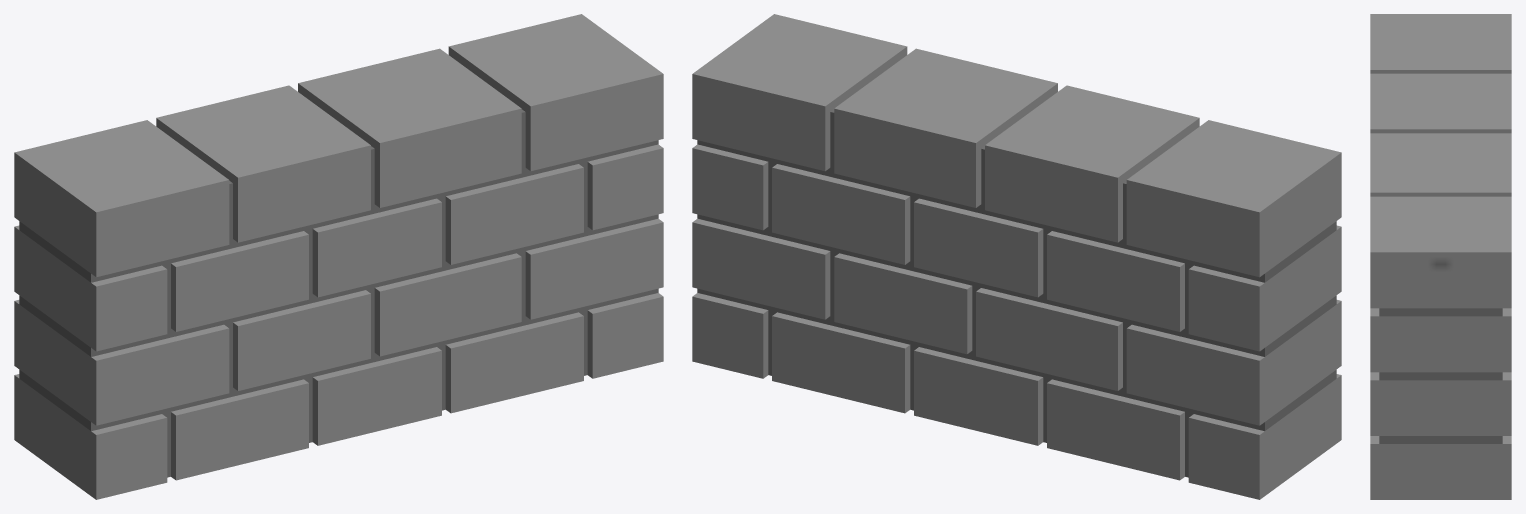
File: Wall_0.fbx
The picture shows the model from 3 angles, left to right: view 1: azimuth 30°, elevation 25°; view 2: azimuth 150°, elevation 25°; view 3: azimuth 270°, elevation 25°; orthographic projection. The views are drawn at different scales.
Visible parts, largest first — view 1: Matrix_15; view 2: Matrix_15; view 3: Matrix_15.
Boxes of the visible parts, bbox=[...] form: Matrix_15: bbox=[14, 14, 663, 499]; Matrix_15: bbox=[692, 14, 1341, 499]; Matrix_15: bbox=[1370, 14, 1511, 499].
Size of the model in its own units: 64 by 31 by 16.
